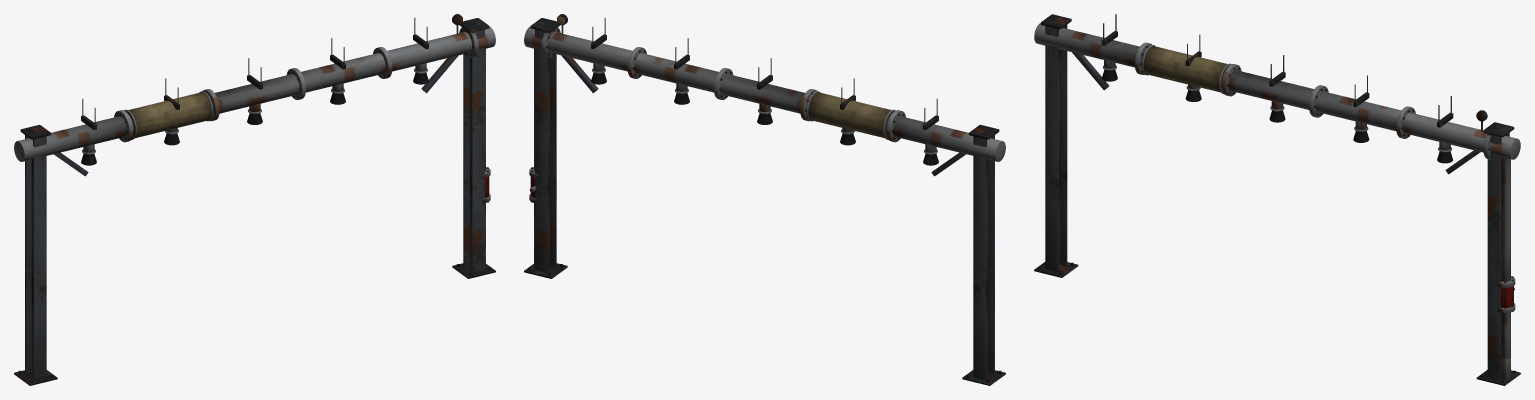
The model's file is steam_frame.gltf.
The picture shows the model from 3 angles, left to right: view 1: azimuth 30°, elevation 25°; view 2: azimuth 150°, elevation 25°; view 3: azimuth 330°, elevation 25°; orthographic projection.
Parts seen in each view (by area): view 1: steam_frame; view 2: steam_frame; view 3: steam_frame.
Boxes of the visible parts, x1,y1,x2,y2 form: steam_frame: (14,14,495,385); steam_frame: (524,14,1005,385); steam_frame: (1034,14,1520,385).
Bounding box in the file's own units: 7.1 × 3.75 × 0.42.
6 materials, 6 textured.
